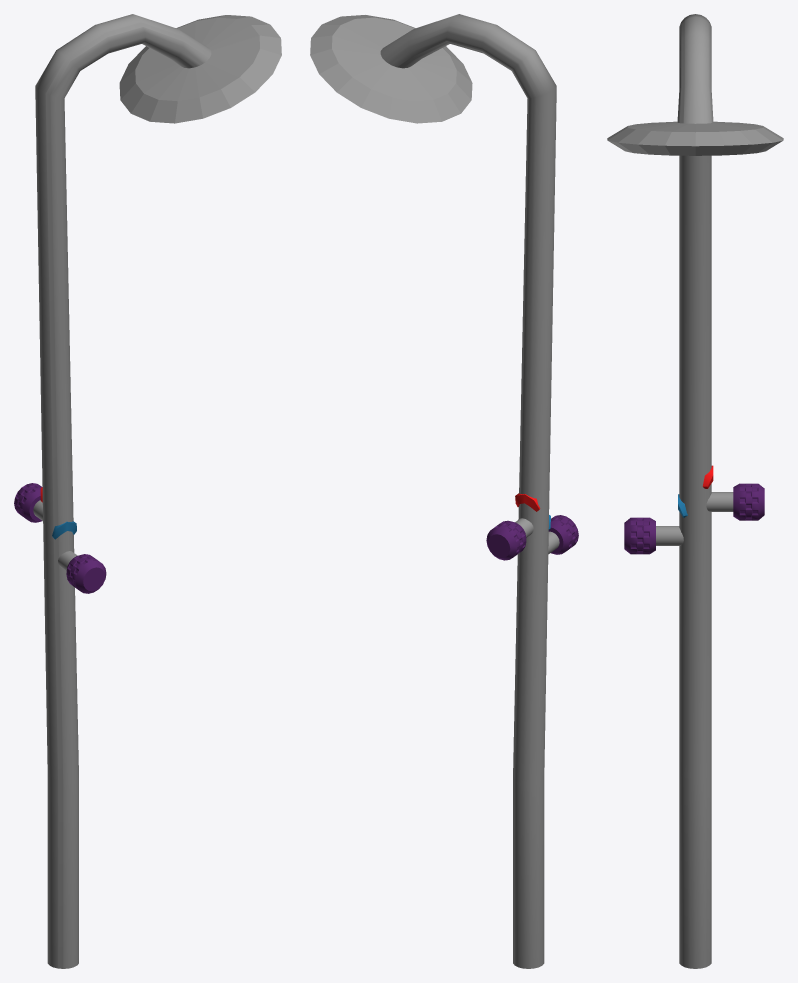
File: ShowerheadExported.fbx
The picture shows the model from 3 angles, left to right: view 1: azimuth 30°, elevation 25°; view 2: azimuth 150°, elevation 25°; view 3: azimuth 270°, elevation 25°; orthographic projection. The views are drawn at different scales.
Parts seen in each view (by area): view 1: Cylinder001, Cylinder003, Cylinder005; view 2: Cylinder001, Cylinder005, Cylinder003; view 3: Cylinder001, Cylinder003, Cylinder005, Cylinder002, Cylinder004.
Boxes of the visible parts, bbox=[...] form: Cylinder001: bbox=[35, 14, 281, 968]; Cylinder003: bbox=[66, 554, 106, 593]; Cylinder005: bbox=[14, 483, 41, 522]; Cylinder001: bbox=[310, 14, 556, 968]; Cylinder005: bbox=[486, 520, 526, 560]; Cylinder003: bbox=[548, 515, 578, 554]; Cylinder001: bbox=[607, 14, 783, 968]; Cylinder003: bbox=[624, 517, 655, 554]; Cylinder005: bbox=[733, 483, 764, 520]; Cylinder002: bbox=[656, 526, 683, 545]; Cylinder004: bbox=[706, 492, 733, 511].
Size of the model in its own units: 51.24 by 195 by 32.3.
